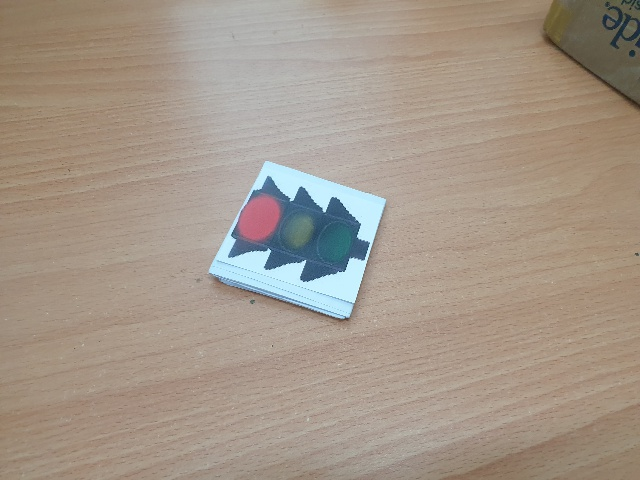Red: (233, 177, 373, 285)
